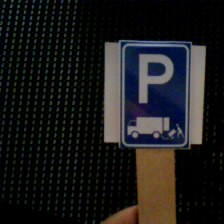load: (106, 35, 199, 156)
